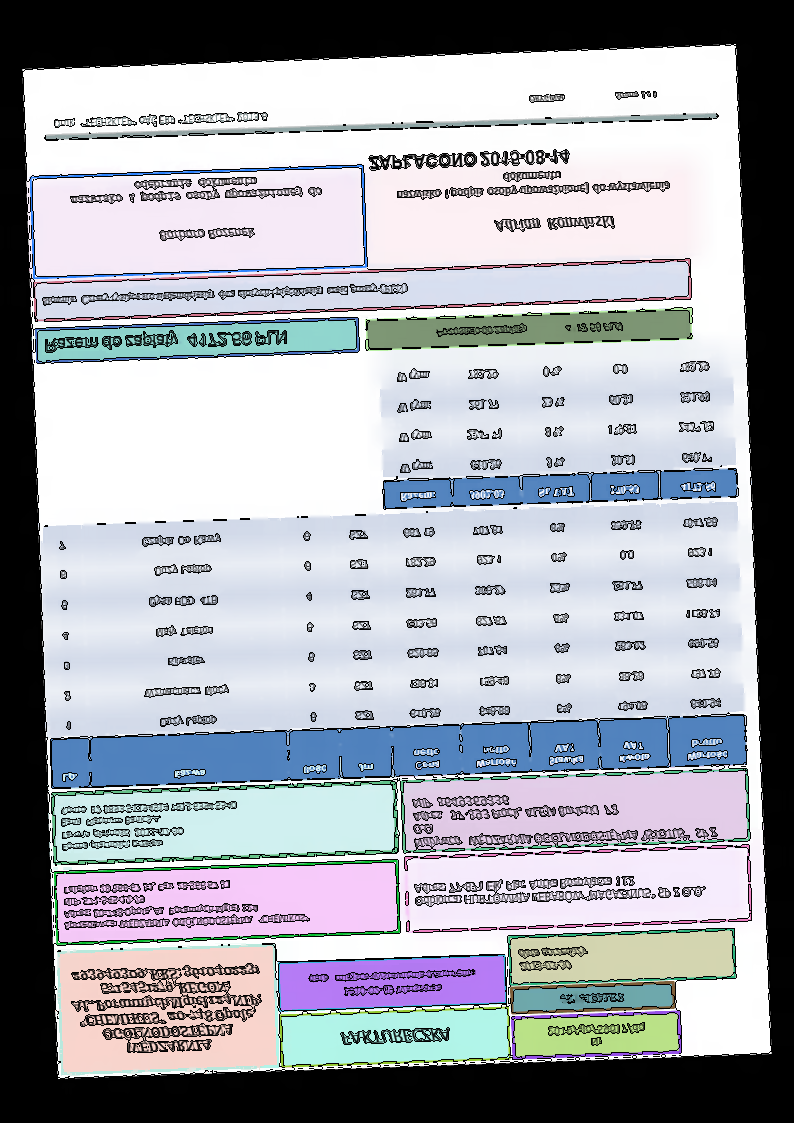Table: (40, 499, 749, 790), (376, 344, 740, 511)
TextBox: (409, 785, 720, 852), (67, 960, 267, 1057), (60, 873, 312, 934), (412, 869, 708, 911), (40, 280, 409, 310), (393, 166, 675, 205), (59, 799, 238, 855), (69, 172, 325, 210), (43, 325, 290, 357), (305, 965, 479, 1002), (366, 146, 570, 175), (50, 109, 272, 134), (432, 317, 624, 341), (546, 1020, 648, 1050), (516, 942, 591, 977), (491, 213, 616, 234), (338, 1026, 452, 1049), (527, 88, 660, 107), (156, 225, 259, 244), (556, 991, 628, 1008)
